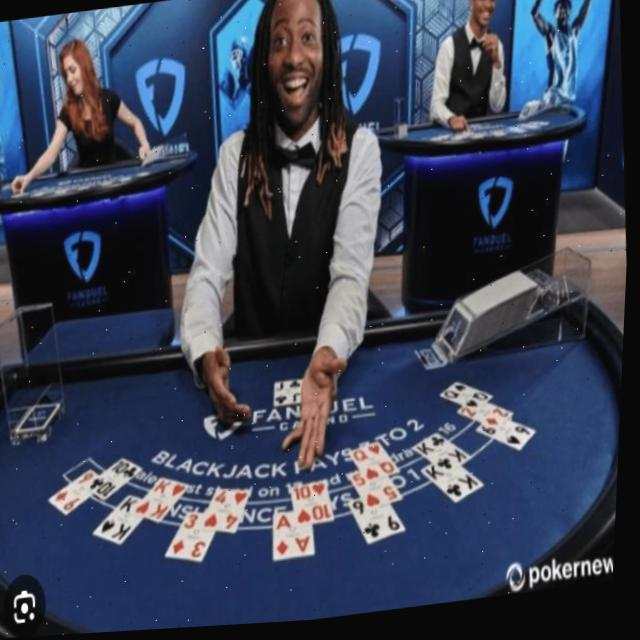Card-10: (91, 458, 145, 502), (296, 483, 336, 524)
Card-2: (462, 407, 516, 428)
Card-3: (170, 513, 221, 562)
Card-4: (207, 489, 254, 536)
Card-5: (354, 477, 407, 516)
Card-6: (480, 425, 539, 457)
Card-9: (354, 499, 410, 551), (51, 466, 102, 516)
Card-A: (277, 515, 319, 564)
Card-J: (276, 381, 308, 408)
Card-K: (427, 469, 488, 508), (99, 496, 147, 545), (139, 479, 192, 523), (415, 438, 476, 476)
Card-Q: (354, 443, 405, 485), (443, 387, 495, 412)
